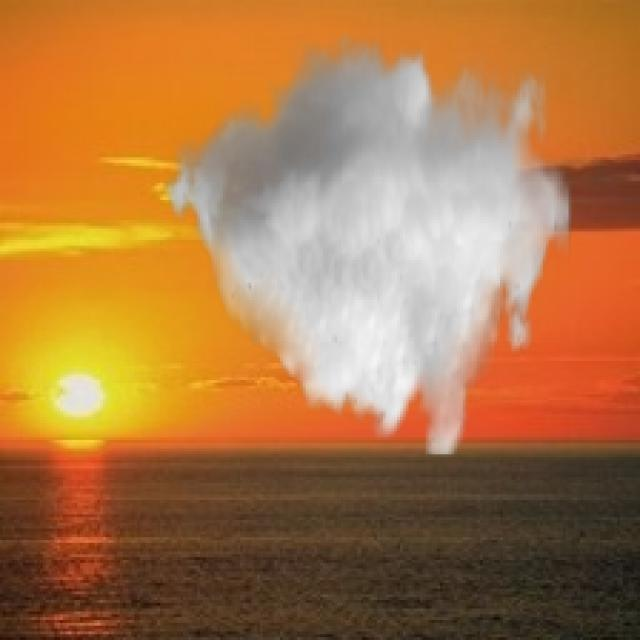smoke: (157, 34, 572, 457)
